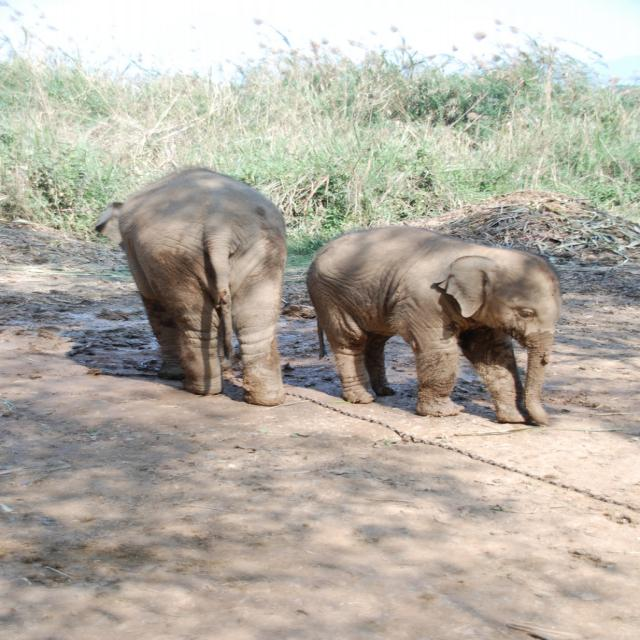Elephant: (308, 222, 557, 418), (93, 166, 279, 406)
